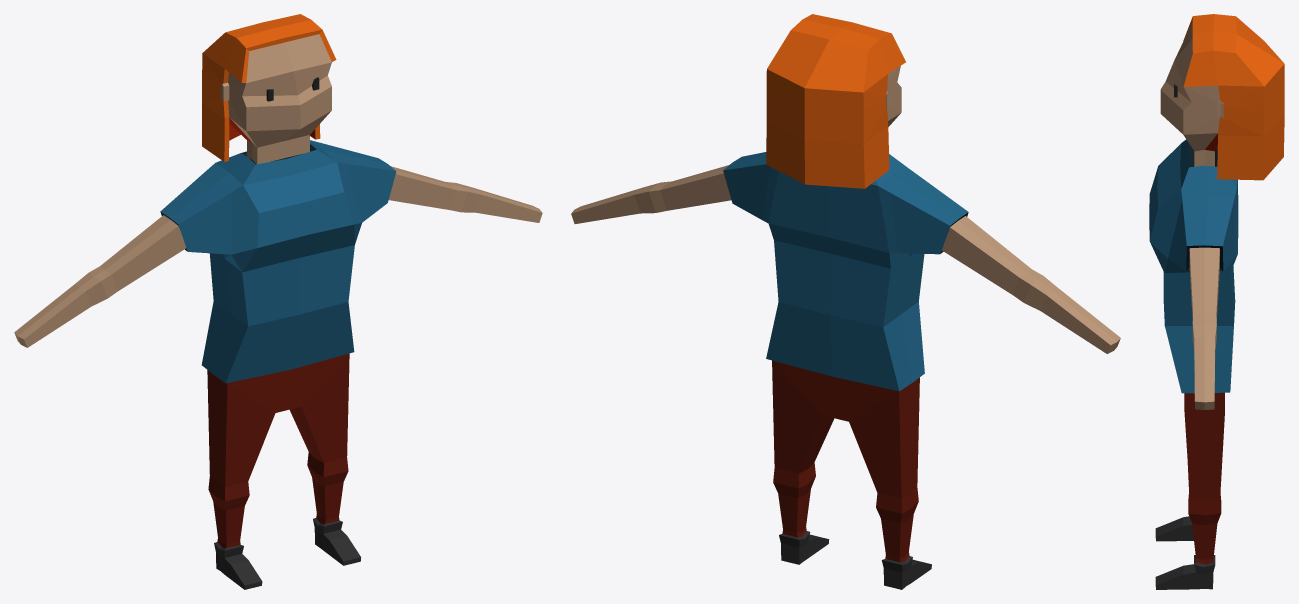
The model's file is Human.fbx.
3 renders of one model, left to right at view 1: azimuth 30°, elevation 25°; view 2: azimuth 150°, elevation 25°; view 3: azimuth 270°, elevation 25°, orthographic. The views are drawn at different scales.
Visible parts, largest first — view 1: Cube; view 2: Cube; view 3: Cube.
Boxes of the visible parts, bbox=[...] form: Cube: bbox=[14, 14, 542, 589]; Cube: bbox=[571, 14, 1120, 589]; Cube: bbox=[1149, 14, 1284, 589].
Size of the model in its own units: 742 by 716 by 166.
